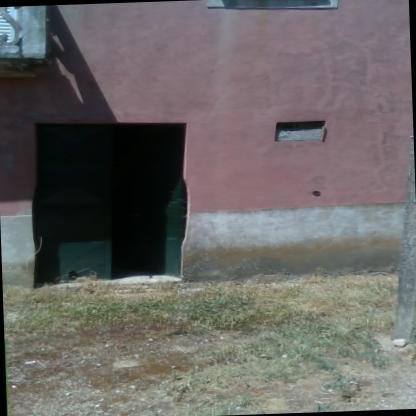open: (30, 104, 200, 290)
